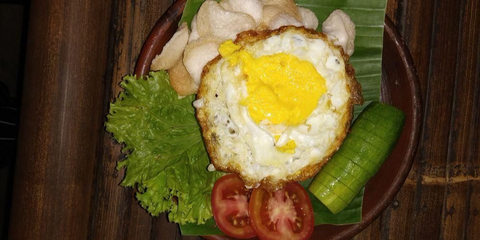Telur: (169, 34, 378, 183)
